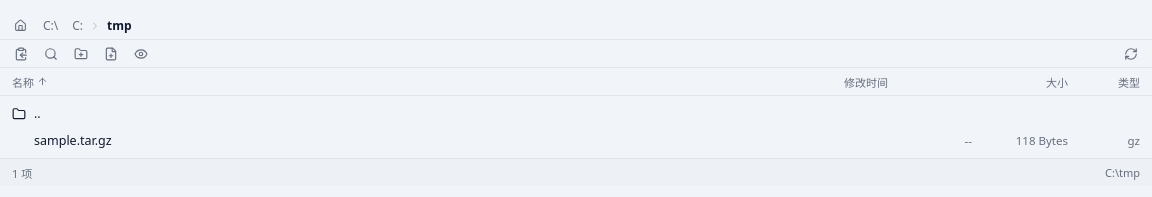
Test: SftpPaneView 右键菜单 › 空白区右键显示空白菜单
Check: the text "sample.tar.gz" is shown, box left=34, top=132, right=112, bottom=149
Right-click the element with class "nc-sftp-pane-list" at (73, 140), box left=0, top=96, right=1151, bottom=158
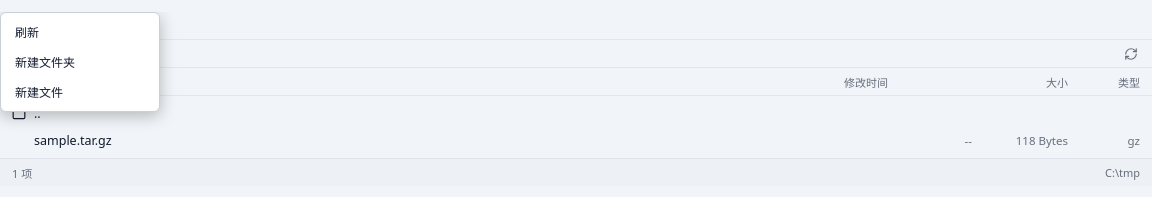
Check: the button "刷新" is shown, box left=5, top=17, right=155, bottom=47
